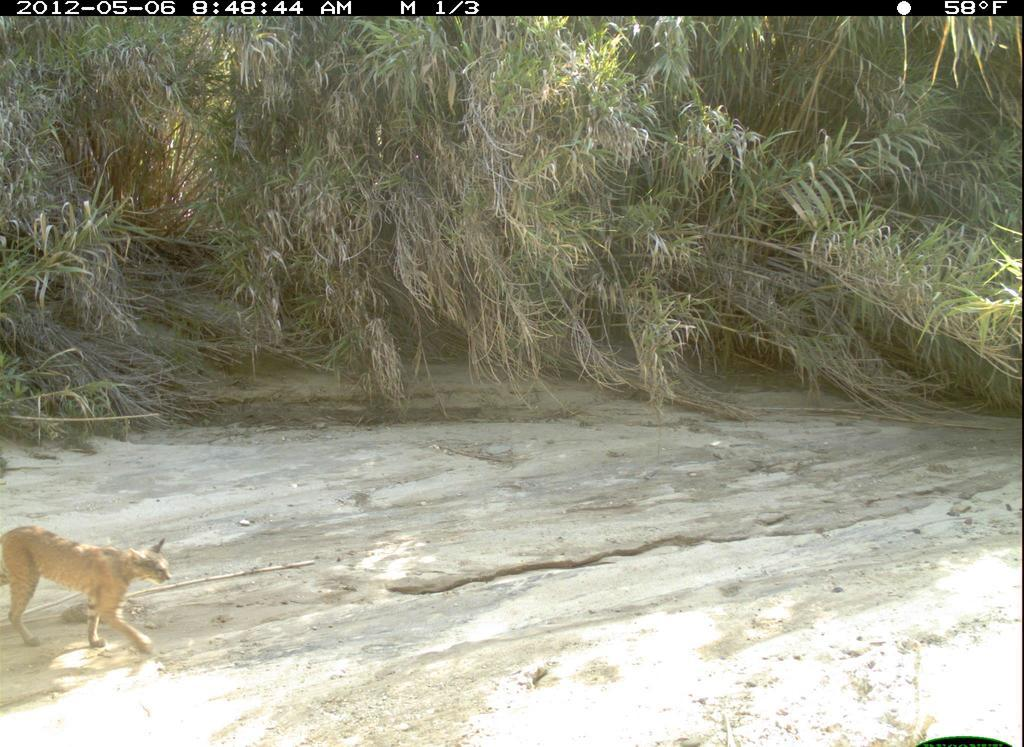bobcat: (2, 521, 177, 665)
